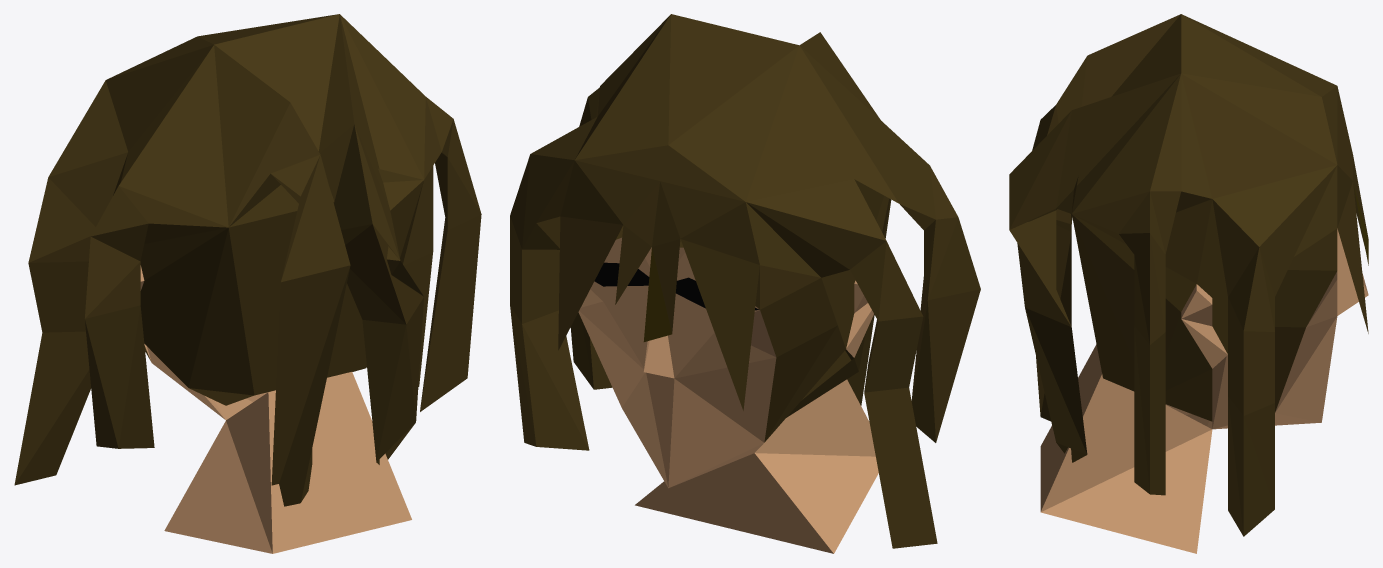
Rendered from player_female_head_47_0.obj.
The picture shows the model from 3 angles, left to right: view 1: azimuth 30°, elevation 25°; view 2: azimuth 150°, elevation 25°; view 3: azimuth 270°, elevation 25°; orthographic projection. The views are drawn at different scales.
Bounding box in the file's own units: 0.2344 × 0.2578 × 0.1797.
